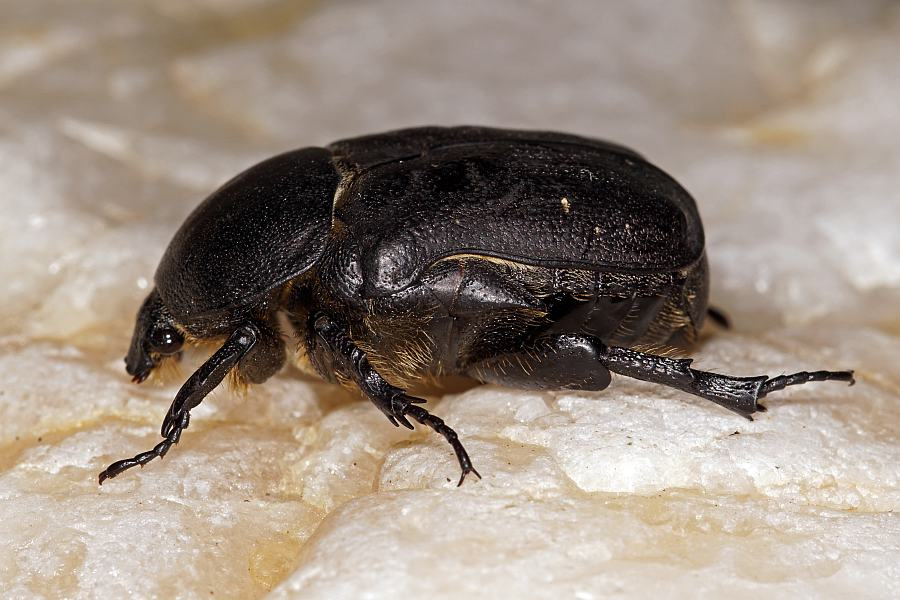Protaetia_vidua: (85, 115, 872, 497)
